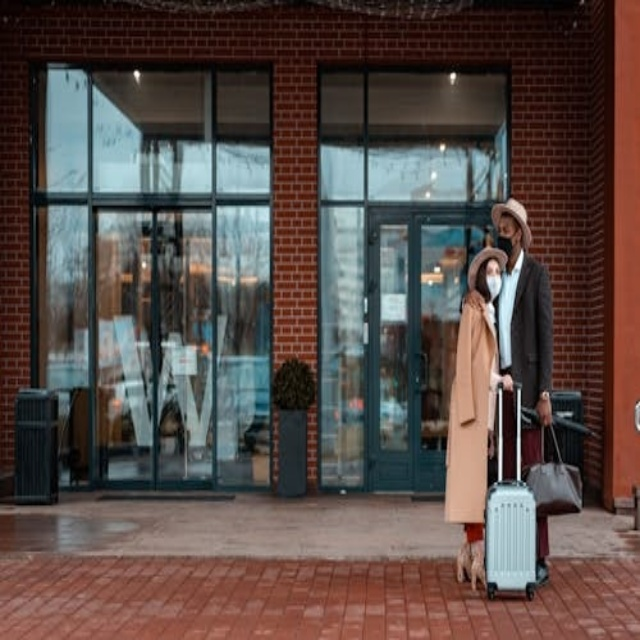Mascara: (497, 232, 515, 257), (486, 274, 502, 299)
